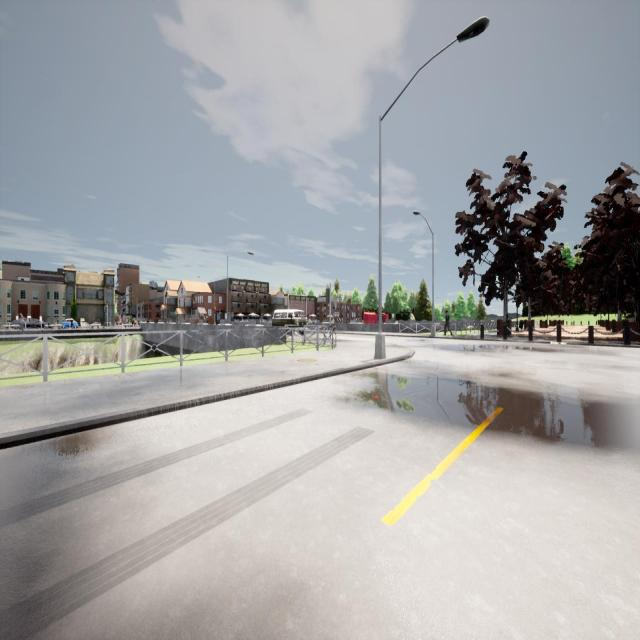Pedestrian: (443, 310, 453, 336)
Vehicle: (271, 309, 308, 326), (12, 318, 45, 329), (62, 318, 78, 328)
traffic_light: (326, 288, 330, 304), (104, 306, 107, 314), (214, 306, 216, 313)
